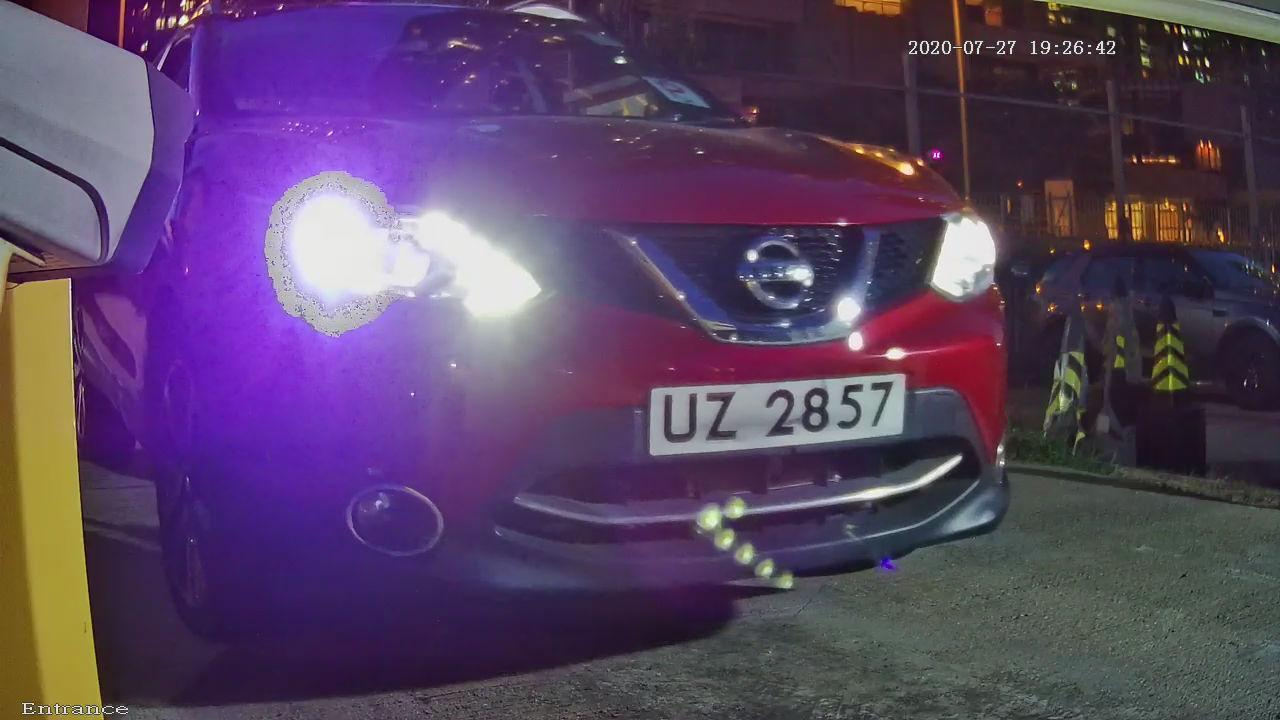privatecar: (86, 1, 1086, 679)
